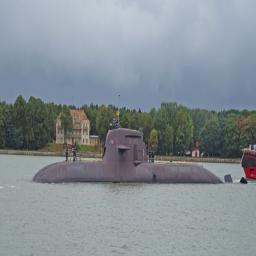submarine: (33, 125, 230, 188)
